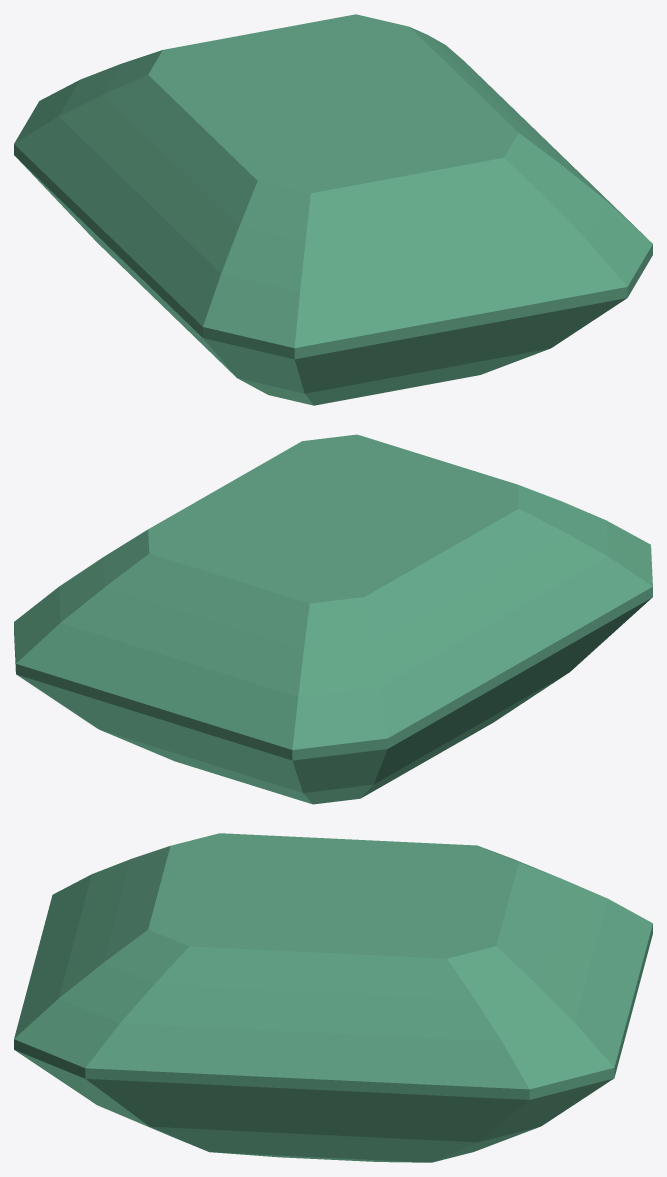
The model's file is stone-tourmaline.glb.
3 views of the same model, one above another, from view 1: azimuth 30°, elevation 25°; view 2: azimuth 150°, elevation 25°; view 3: azimuth 270°, elevation 25° (orthographic). The views are drawn at different scales.
Visible parts, largest first — view 1: Gemstone Tourmaline; view 2: Gemstone Tourmaline; view 3: Gemstone Tourmaline.
Boxes of the visible parts, left/top/right/bottom form: Gemstone Tourmaline: left=14, top=14, right=652, bottom=405; Gemstone Tourmaline: left=14, top=434, right=652, bottom=804; Gemstone Tourmaline: left=14, top=833, right=652, bottom=1162.
Size of the model in its own units: 2.2 by 1.15 by 2.75.
